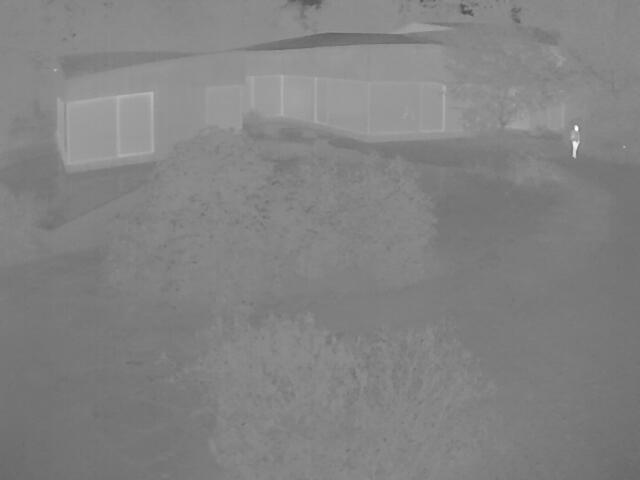person: (566, 124, 582, 157)
